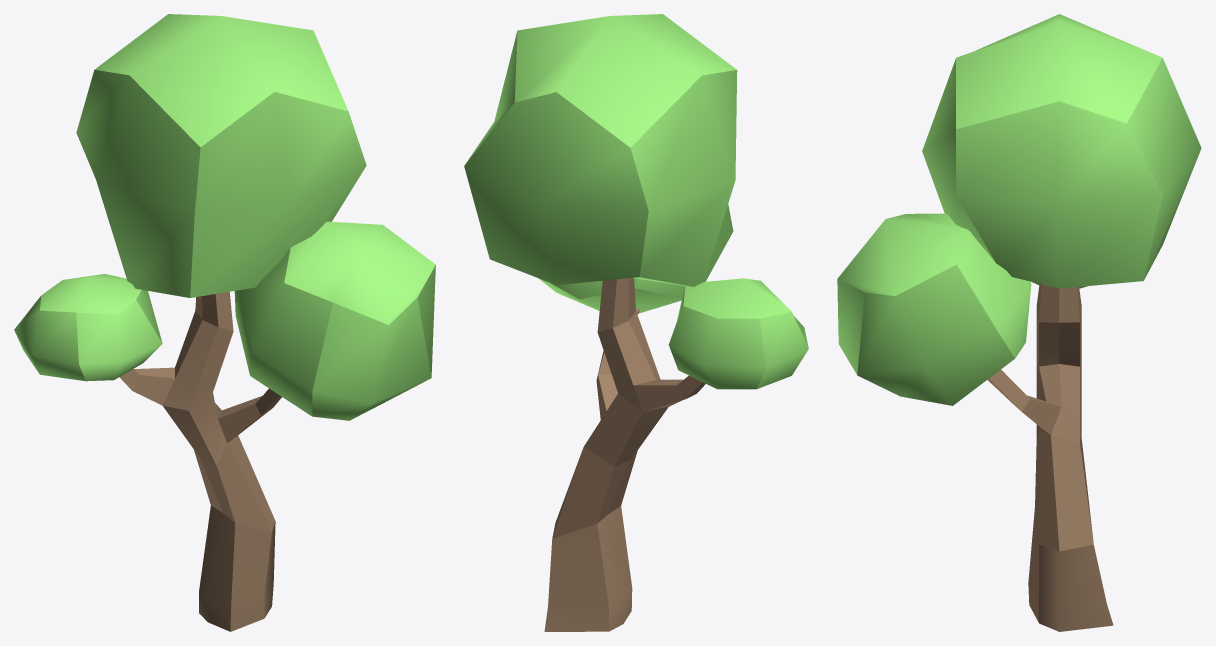
The model's file is tree.glb.
The picture shows the model from 3 angles, left to right: view 1: azimuth 30°, elevation 25°; view 2: azimuth 150°, elevation 25°; view 3: azimuth 270°, elevation 25°; orthographic projection. The views are drawn at different scales.
Parts seen in each view (by area): view 1: pCube2, pCube3, pCube1, pCube4; view 2: pCube2, pCube1, pCube4, pCube3; view 3: pCube2, pCube3, pCube1.
Part boxes in pixels (x1,y1,x2,y2): pCube2: (76, 14, 366, 297); pCube3: (234, 221, 435, 420); pCube1: (119, 291, 281, 631); pCube4: (14, 274, 162, 381); pCube2: (464, 14, 737, 286); pCube1: (544, 278, 705, 631); pCube4: (668, 278, 808, 389); pCube3: (538, 278, 684, 313); pCube2: (922, 14, 1201, 288); pCube3: (837, 213, 1031, 405); pCube1: (987, 284, 1113, 631).
Bounding box in the file's own units: 4.67 × 8.14 × 4.58.
